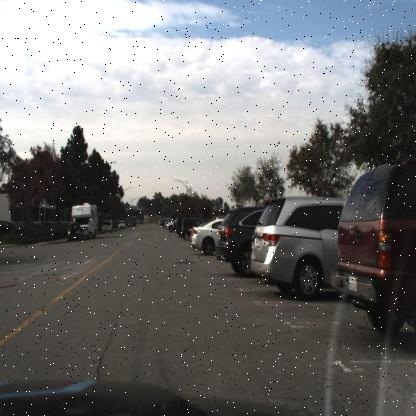car: (252, 191, 338, 297), (215, 210, 255, 280), (191, 219, 223, 253), (66, 220, 84, 243), (179, 216, 193, 244), (164, 214, 176, 237), (100, 218, 114, 235)
truck: (74, 203, 100, 238)
